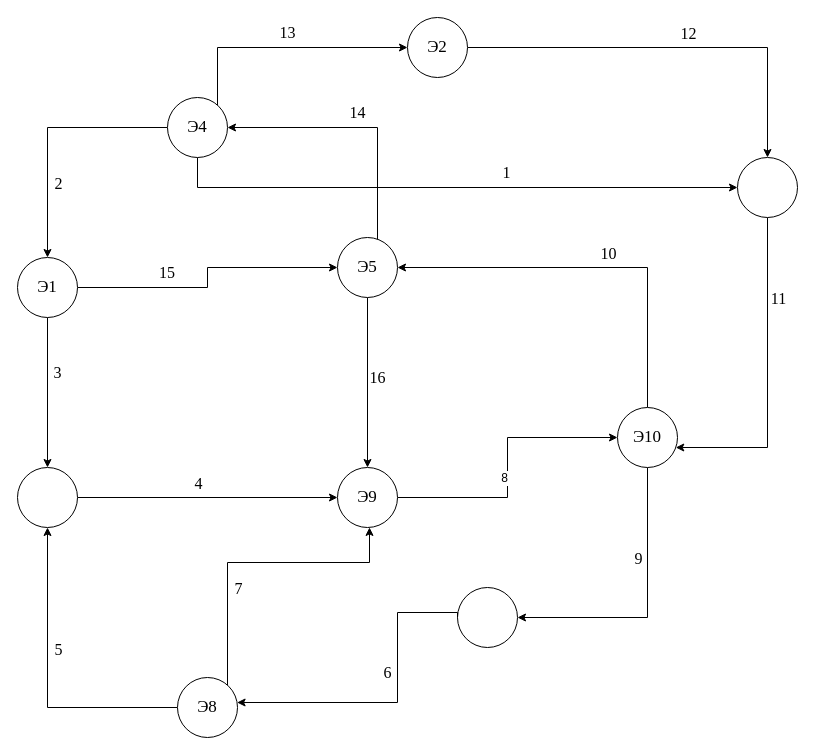
This 815x755 diagram has some shape labels left out. The box of each missing label's shape, as (x1, y1, x2, y2) in pixels:
Э3: (16, 466, 78, 528)
Э6: (456, 586, 518, 648)
Э7: (736, 156, 798, 218)
